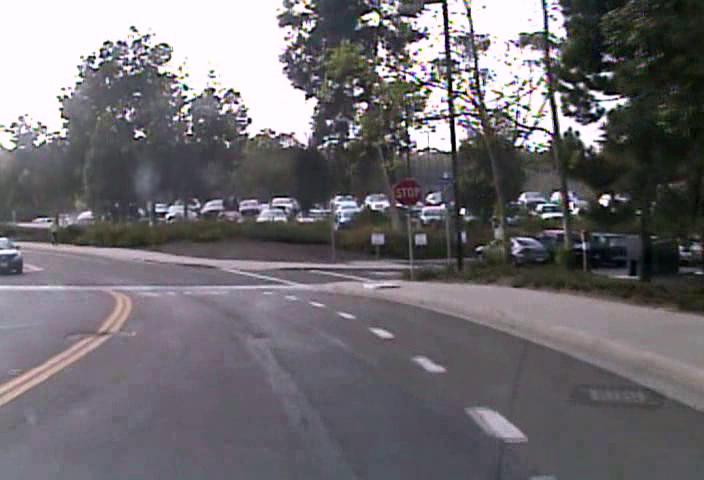stop: (391, 177, 423, 207)
